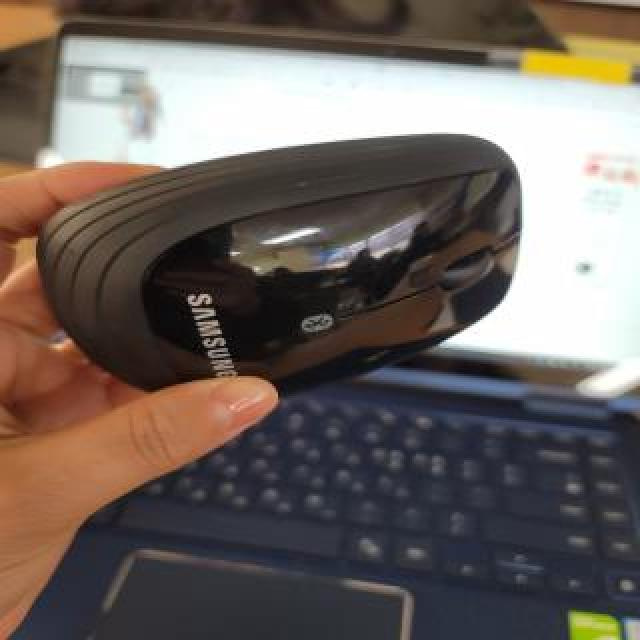laptop_computer: (40, 30, 638, 640)
mouse: (24, 131, 534, 400)
